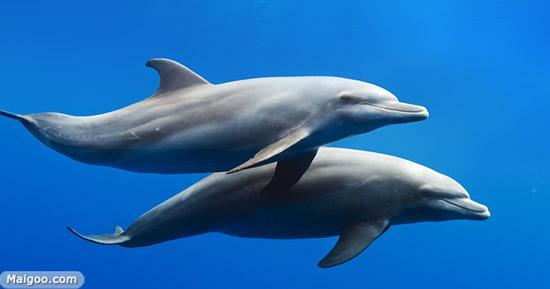fish: (2, 57, 430, 186), (61, 141, 492, 268)
